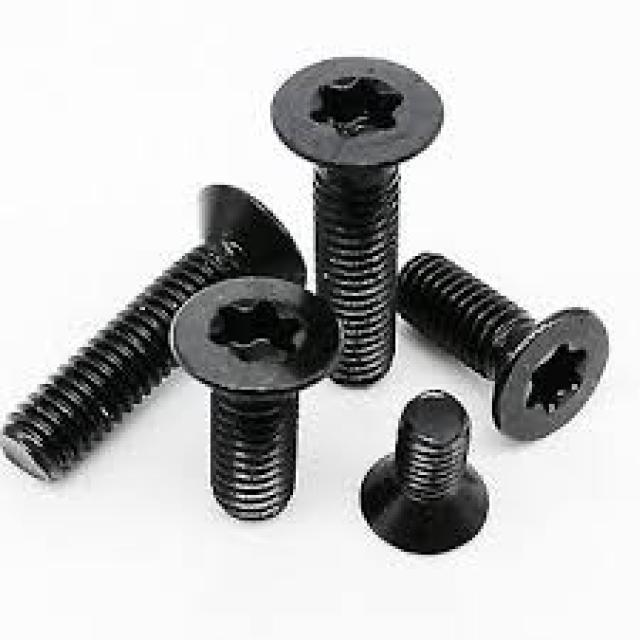torx: (171, 275, 346, 390), (268, 54, 448, 160), (493, 304, 612, 442)
